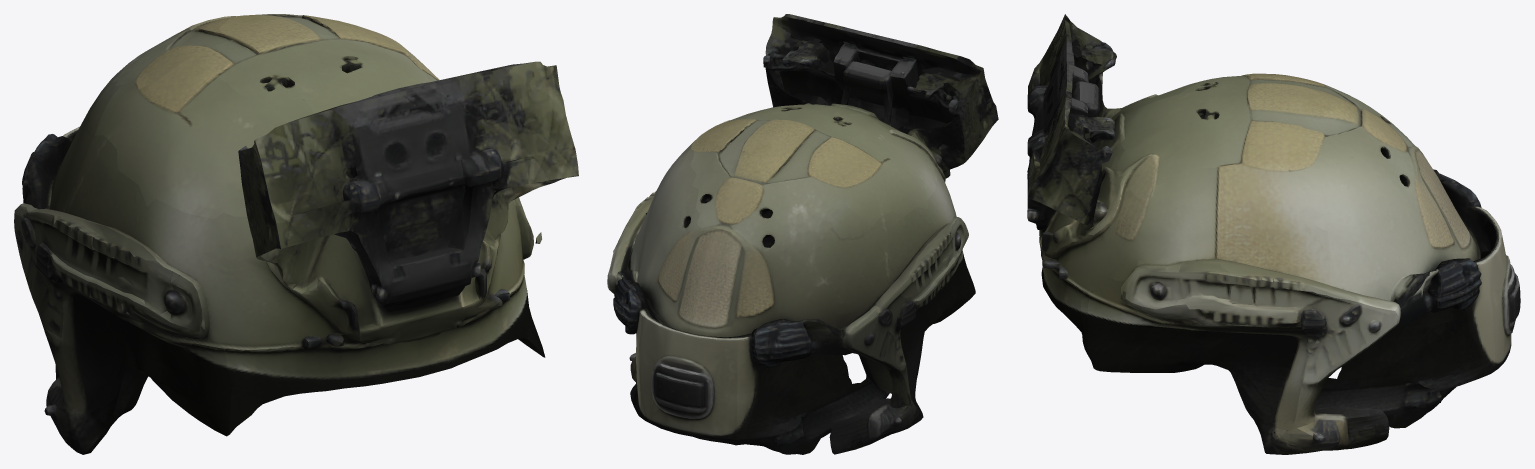
Rendered from helmet-standalone.glb.
The picture shows the model from 3 angles, left to right: view 1: azimuth 30°, elevation 25°; view 2: azimuth 150°, elevation 25°; view 3: azimuth 270°, elevation 25°; orthographic projection. The views are drawn at different scales.
Visible parts, largest first — view 1: geometry_0; view 2: geometry_0; view 3: geometry_0.
Boxes of the visible parts, x1,y1,x2,y2 form: geometry_0: (14, 14, 578, 454); geometry_0: (607, 14, 998, 454); geometry_0: (1027, 14, 1520, 454).
Size of the model in its own units: 0.7464 by 0.7313 by 0.9993.
1 material, 1 textured.
